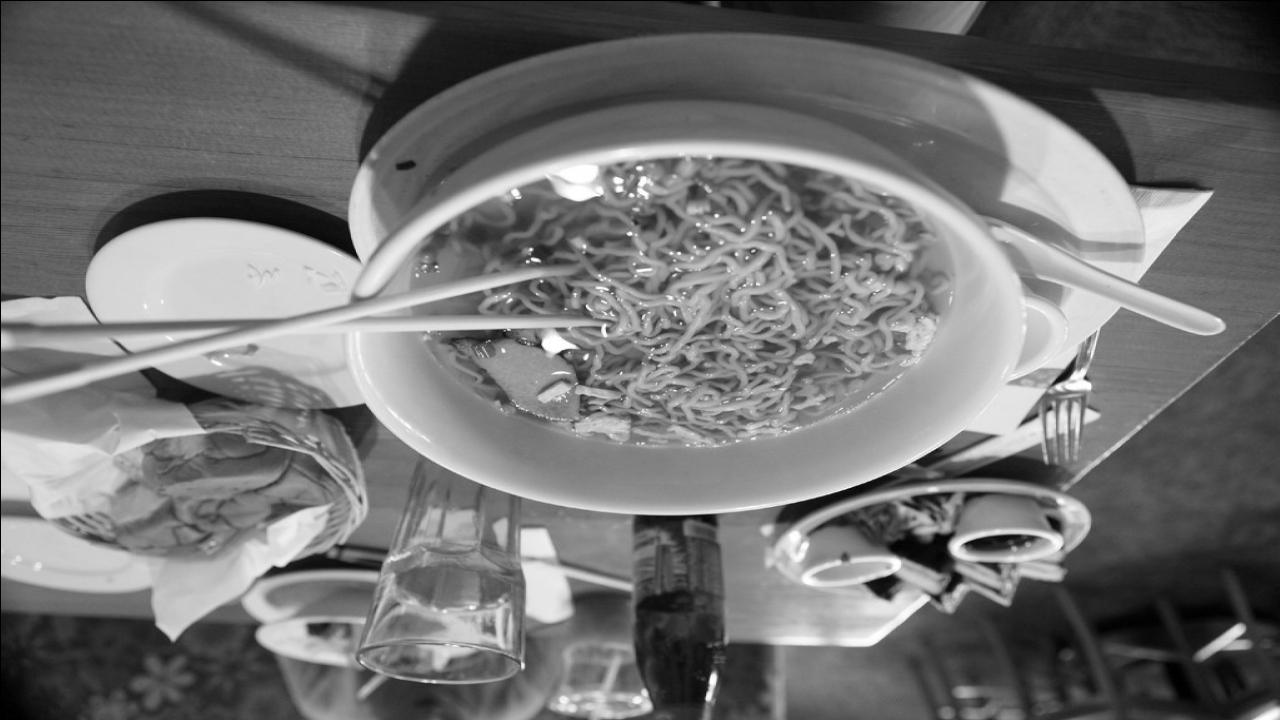chopstick: (0, 264, 606, 408)
fork: (1040, 325, 1102, 466)
